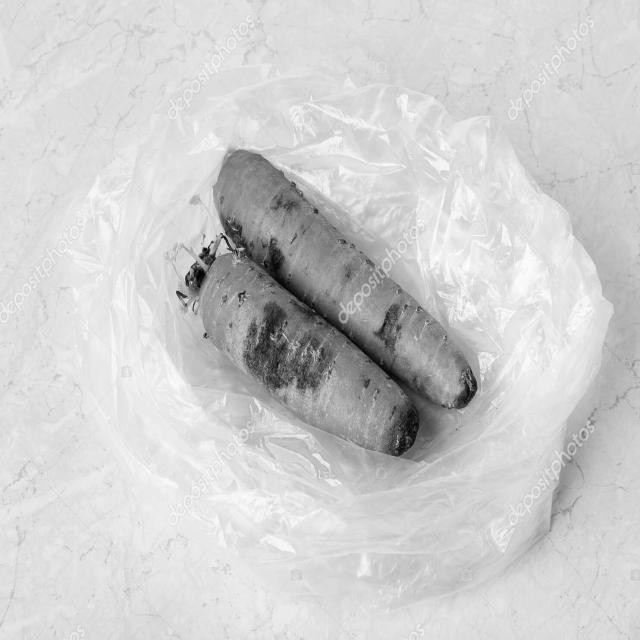Stale_Carrot: (214, 150, 476, 408), (198, 252, 419, 455)
